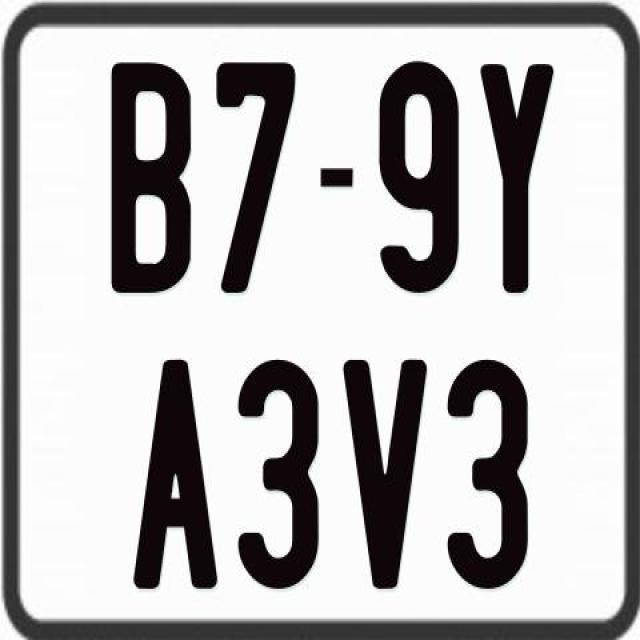3: (444, 357, 530, 592), (235, 357, 318, 596)
7: (212, 62, 292, 293)
9: (374, 58, 454, 294)
A: (132, 360, 223, 595)
B: (109, 61, 192, 296)
V: (344, 357, 428, 592)
Y: (477, 62, 552, 296)
